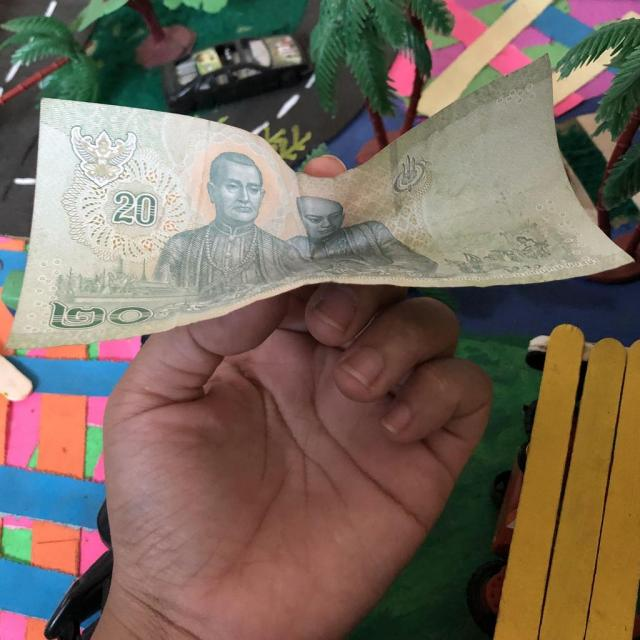THAI20: (8, 58, 639, 352)
